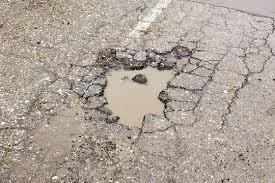alligator-crack: (175, 0, 275, 132)
pothole: (86, 42, 195, 138)
